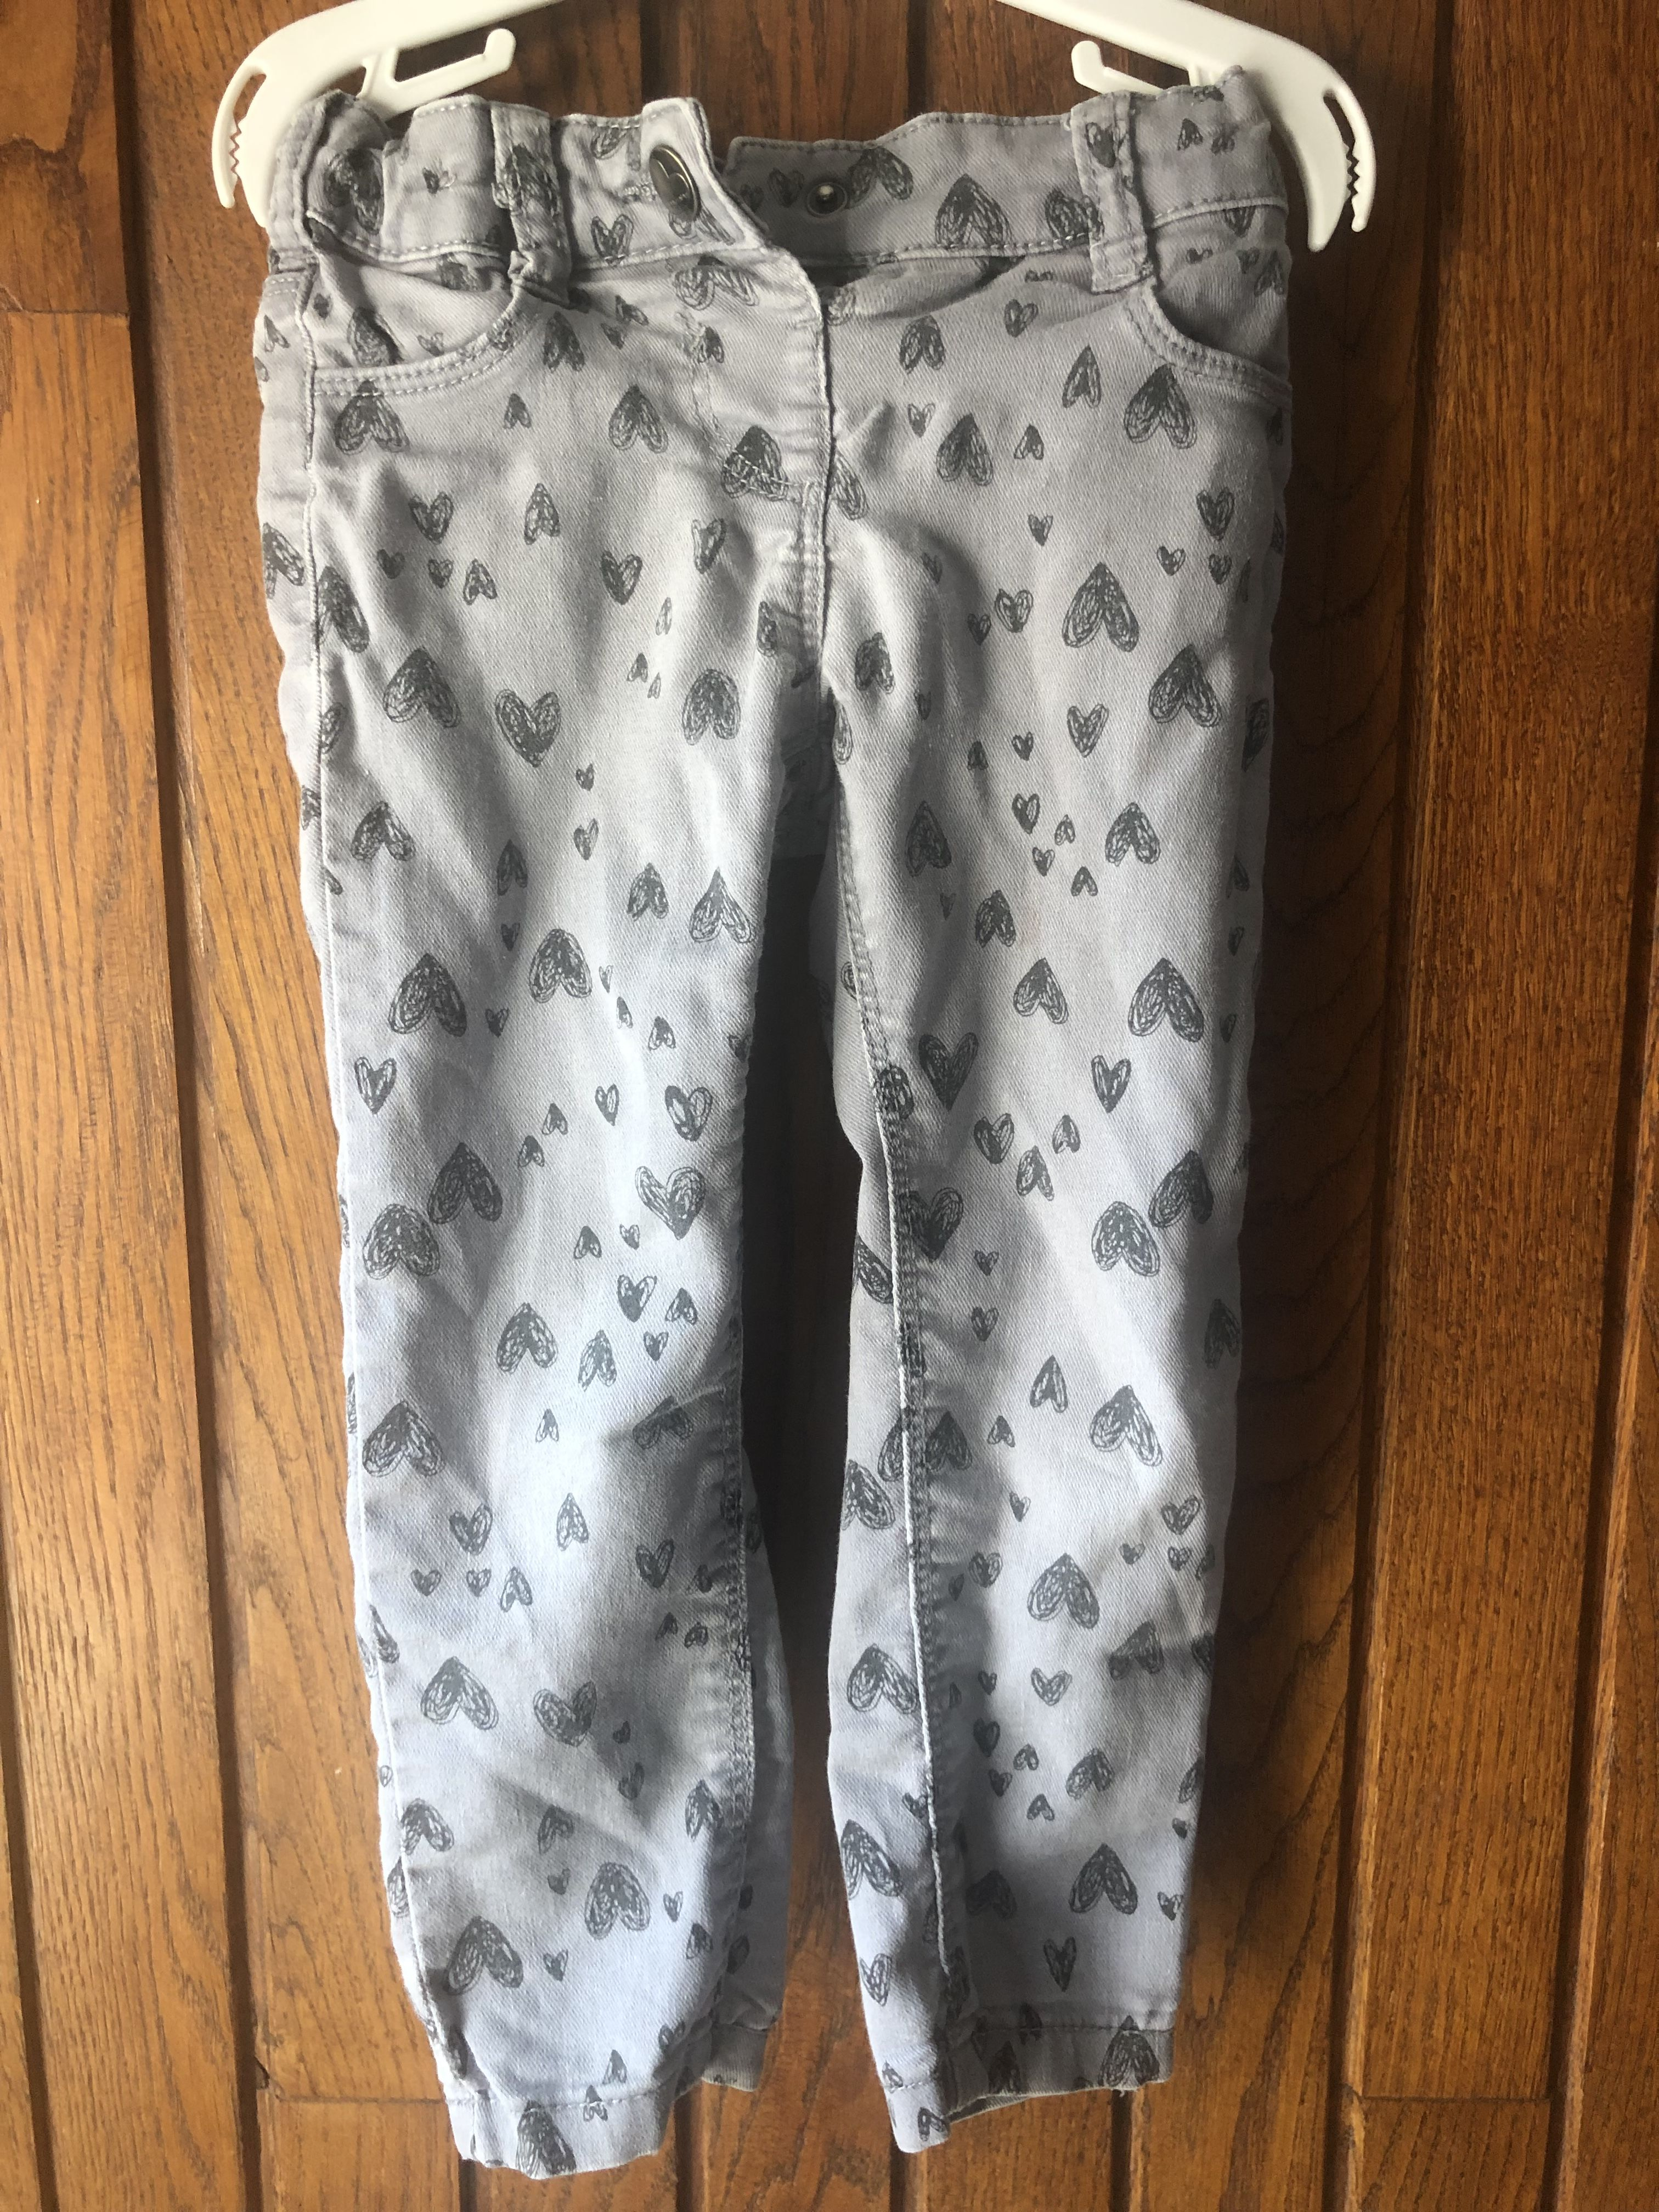clothes: (258, 49, 1239, 2193)
